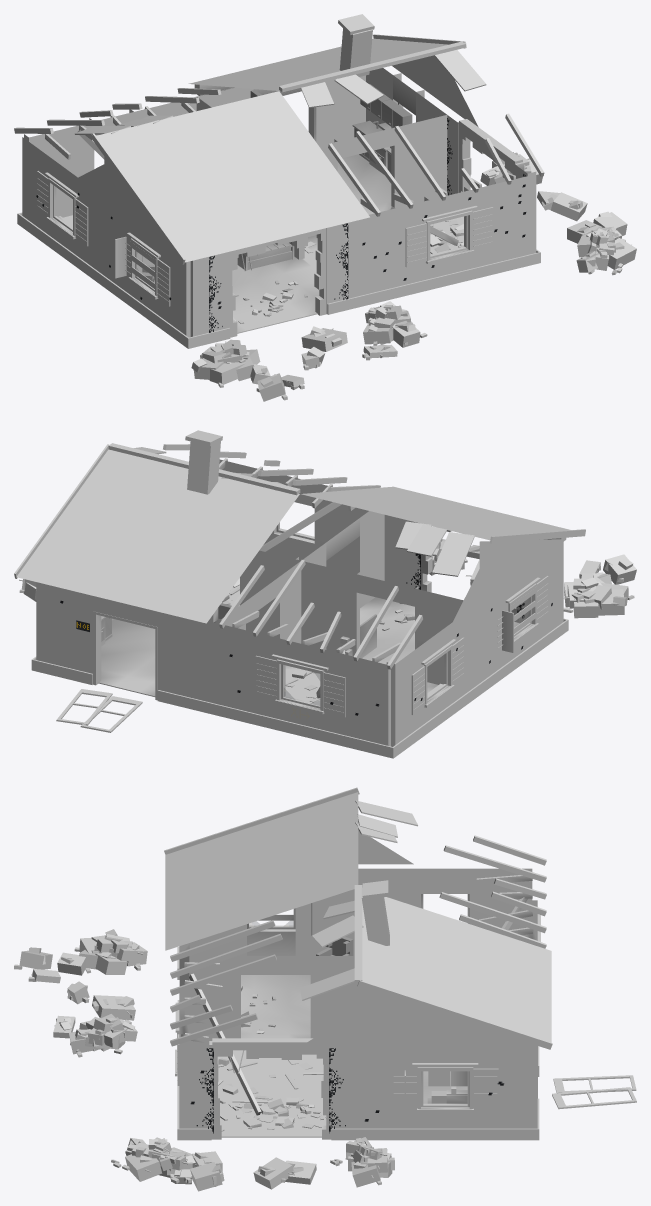
File: old_house_8.glb
3 views of the same model, one above another, from view 1: azimuth 30°, elevation 25°; view 2: azimuth 150°, elevation 25°; view 3: azimuth 270°, elevation 25° (orthographic). The views are drawn at different scales.
Visible parts, largest first — view 1: old_house_8; view 2: old_house_8; view 3: old_house_8.
Part boxes in pixels (x1,y1,x2,y2): old_house_8: (14,14,636,401); old_house_8: (14,430,636,758); old_house_8: (14,787,636,1191).
Size of the model in its own units: 16.64 by 6.68 by 17.9.
4 materials, 3 textured.
